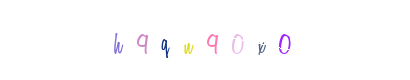0: (165, 0, 245, 80), (244, 0, 324, 80)
9: (147, 0, 227, 80), (151, 0, 231, 80)
H: (111, 0, 191, 80)
N: (148, 0, 228, 80)
Q: (148, 0, 228, 80)
X: (170, 0, 250, 80)
